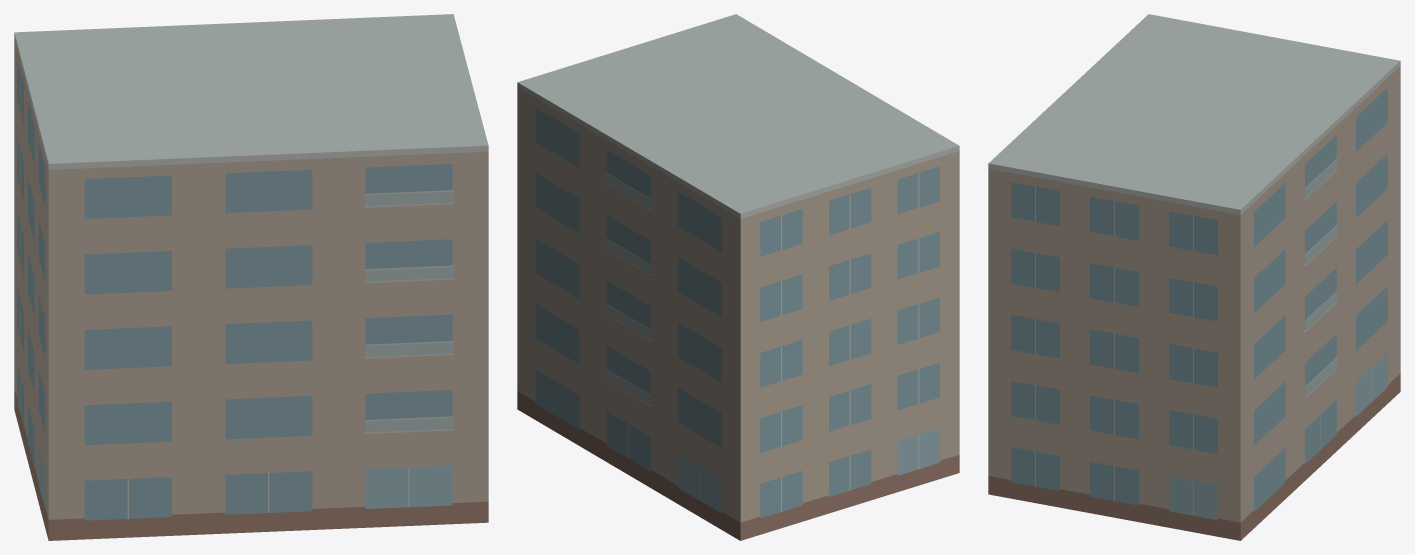
The model's file is survey-upis-32869403.glb.
3 renders of one model, left to right at view 1: azimuth 30°, elevation 25°; view 2: azimuth 150°, elevation 25°; view 3: azimuth 270°, elevation 25°, orthographic. The views are drawn at different scales.
Parts seen in each view (by area): view 1: survey-upis-32869403.tmp; view 2: survey-upis-32869403.tmp; view 3: survey-upis-32869403.tmp.
Boxes of the visible parts, x1,y1,x2,y2 form: survey-upis-32869403.tmp: (14,14,488,540); survey-upis-32869403.tmp: (517,14,959,540); survey-upis-32869403.tmp: (988,14,1400,540).
Size of the model in its own units: 19.68 by 15.5 by 17.5.
